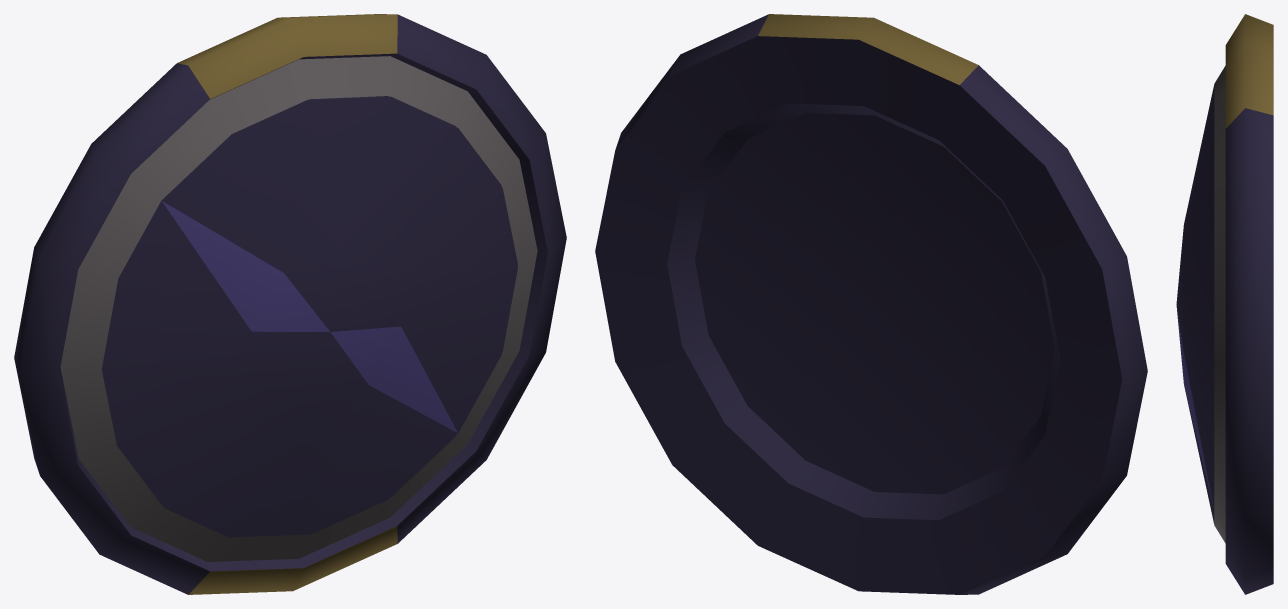
Rendered from aspis.glb.
3 renders of one model, left to right at view 1: azimuth 30°, elevation 25°; view 2: azimuth 150°, elevation 25°; view 3: azimuth 270°, elevation 25°, orthographic. The views are drawn at different scales.
Parts seen in each view (by area): view 1: Aspis - stylised-fantasy-weapons; view 2: Aspis - stylised-fantasy-weapons; view 3: Aspis - stylised-fantasy-weapons.
Part boxes in pixels (<box>): Aspis - stylised-fantasy-weapons: <box>14,14,566,594</box>; Aspis - stylised-fantasy-weapons: <box>595,14,1147,594</box>; Aspis - stylised-fantasy-weapons: <box>1176,14,1273,594</box>.
Size of the model in its own units: 0.5717 by 0.5717 by 0.0954.
